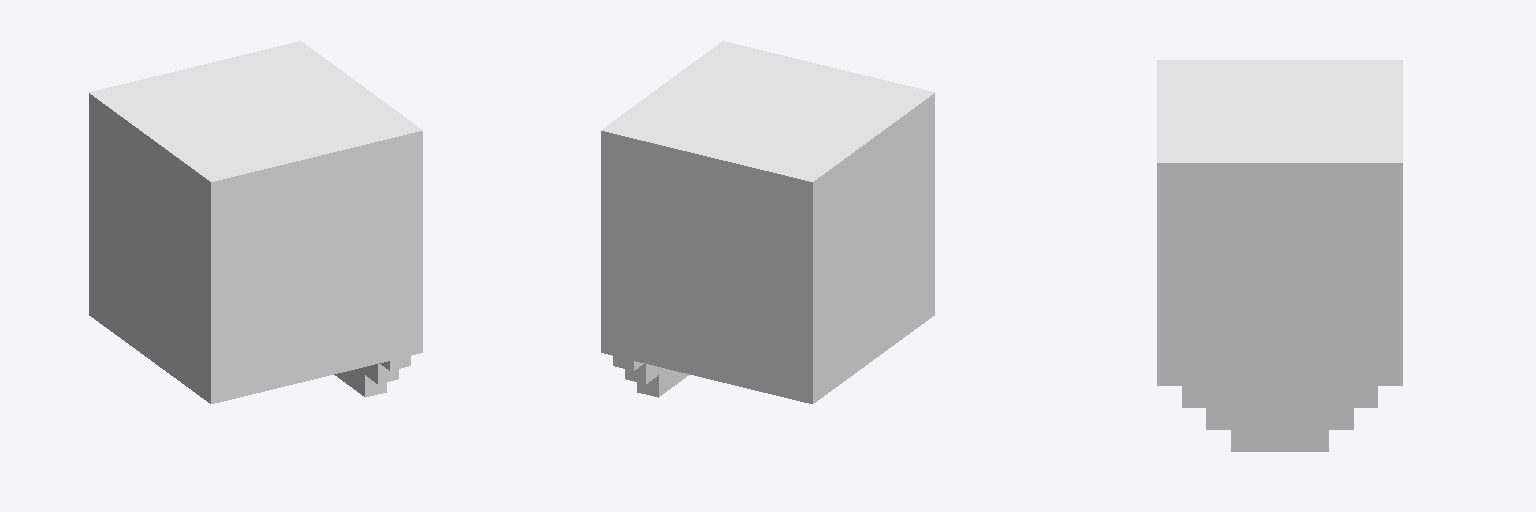
The model's file is player-0.obj.
The picture shows the model from 3 angles: view 1: azimuth 30°, elevation 25°; view 2: azimuth 150°, elevation 25°; view 3: azimuth 270°, elevation 25°; orthographic projection.
Visible parts, largest first — view 1: object 1; view 2: object 1; view 3: object 1.
Boxes of the visible parts, <box> form: object 1: <box>89,41,422,403</box>; object 1: <box>601,41,934,403</box>; object 1: <box>1157,60,1402,451</box>.
Bounding box in the file's own units: 1 × 1.3 × 1.